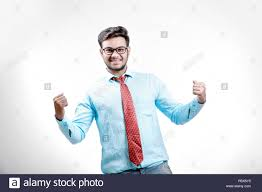Indian_Male: (99, 33, 132, 71)
